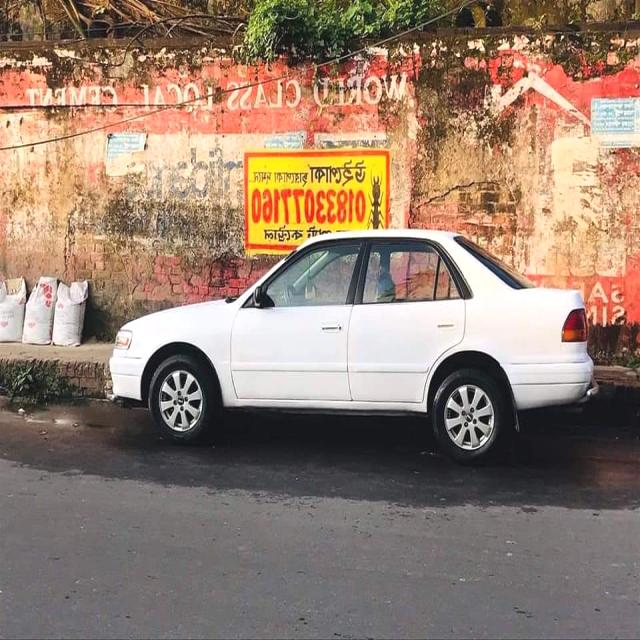white: (109, 201, 592, 438)
